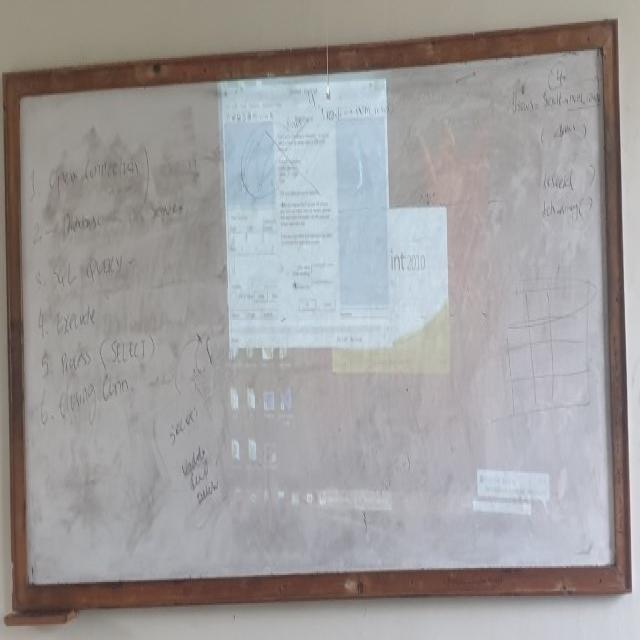Slide: (220, 44, 576, 526)
White-board: (7, 30, 626, 599)
